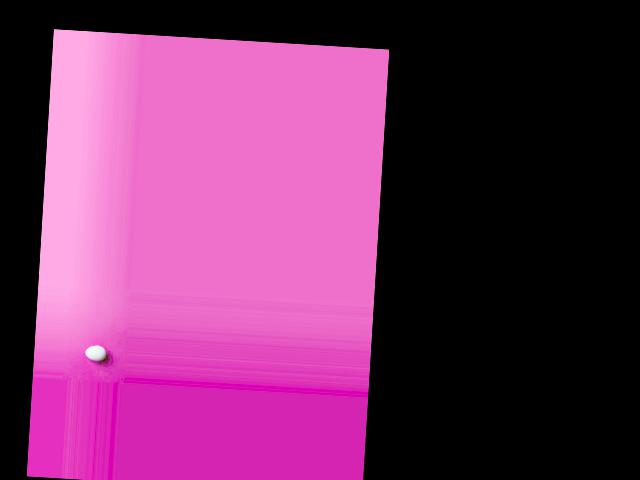egg: (85, 344, 107, 360)
